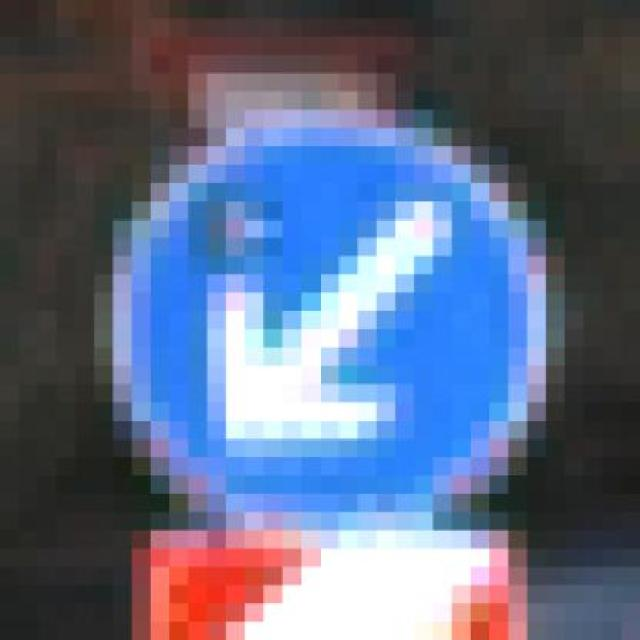Keep-Left: (57, 55, 566, 530)
